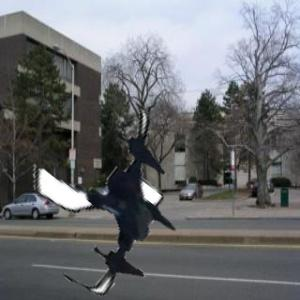drone: (22, 108, 208, 294)
